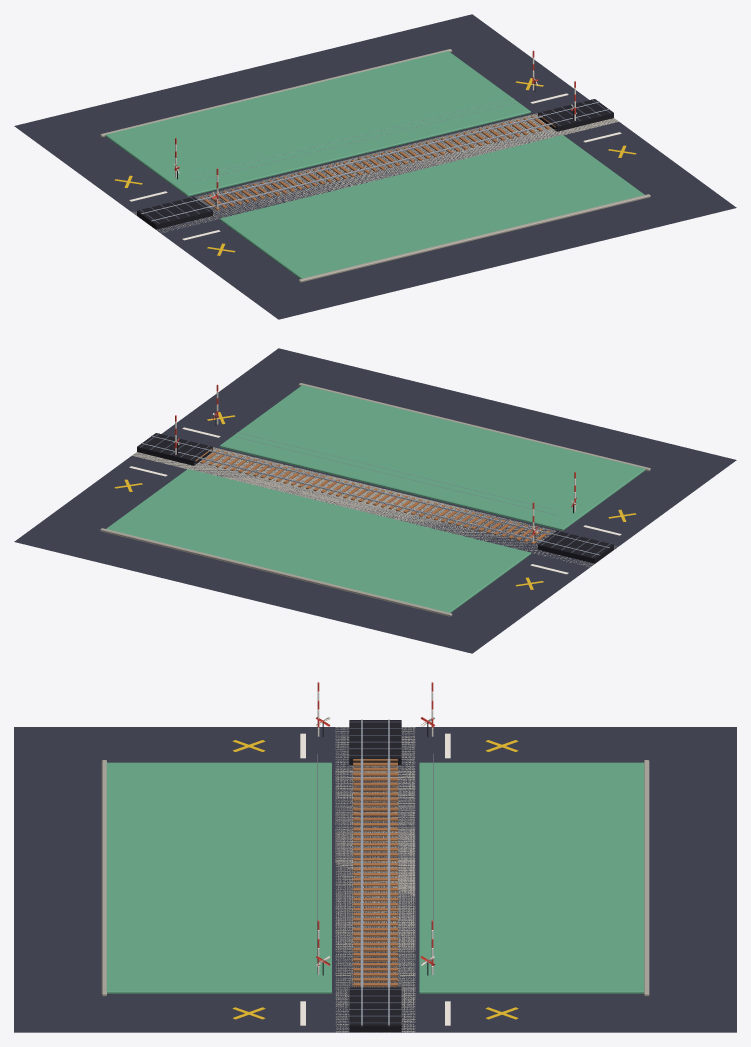
File: tile_rail.glb
3 renders of one model, top to bottom at view 1: azimuth 30°, elevation 25°; view 2: azimuth 150°, elevation 25°; view 3: azimuth 270°, elevation 25°, orthographic. The views are drawn at different scales.
Parts seen in each view (by area): view 1: tile_rail; view 2: tile_rail; view 3: tile_rail.
Part boxes in pixels (x1,y1,x2,y2): tile_rail: (14,14,736,319); tile_rail: (14,348,736,653); tile_rail: (14,682,736,1032).
Bounding box in the file's own units: 40 × 4.78 × 40.
1 material, 1 textured.
